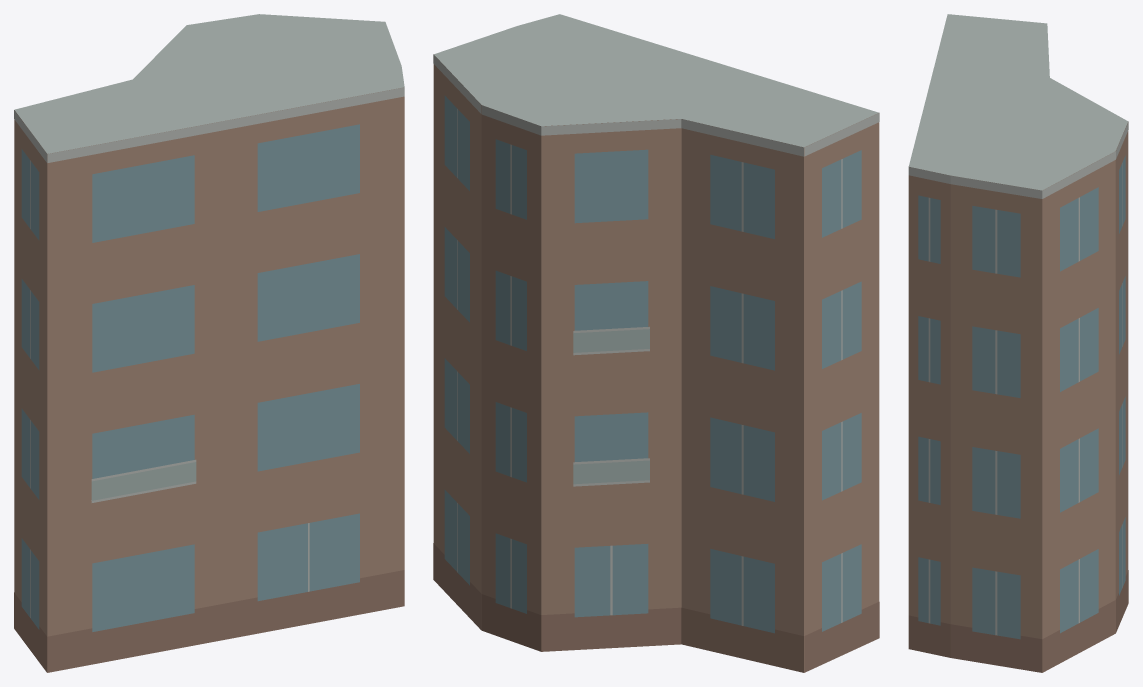
Rendered from survey-upis-32962256.glb.
3 renders of one model, left to right at view 1: azimuth 30°, elevation 25°; view 2: azimuth 150°, elevation 25°; view 3: azimuth 270°, elevation 25°, orthographic. The views are drawn at different scales.
Visible parts, largest first — view 1: survey-upis-32962256.tmp; view 2: survey-upis-32962256.tmp; view 3: survey-upis-32962256.tmp.
Boxes of the visible parts, left/top/right/bottom form: survey-upis-32962256.tmp: left=14, top=14, right=404, bottom=672; survey-upis-32962256.tmp: left=433, top=14, right=879, bottom=672; survey-upis-32962256.tmp: left=908, top=14, right=1128, bottom=672.
Size of the model in its own units: 10.72 by 13.65 by 5.64.
